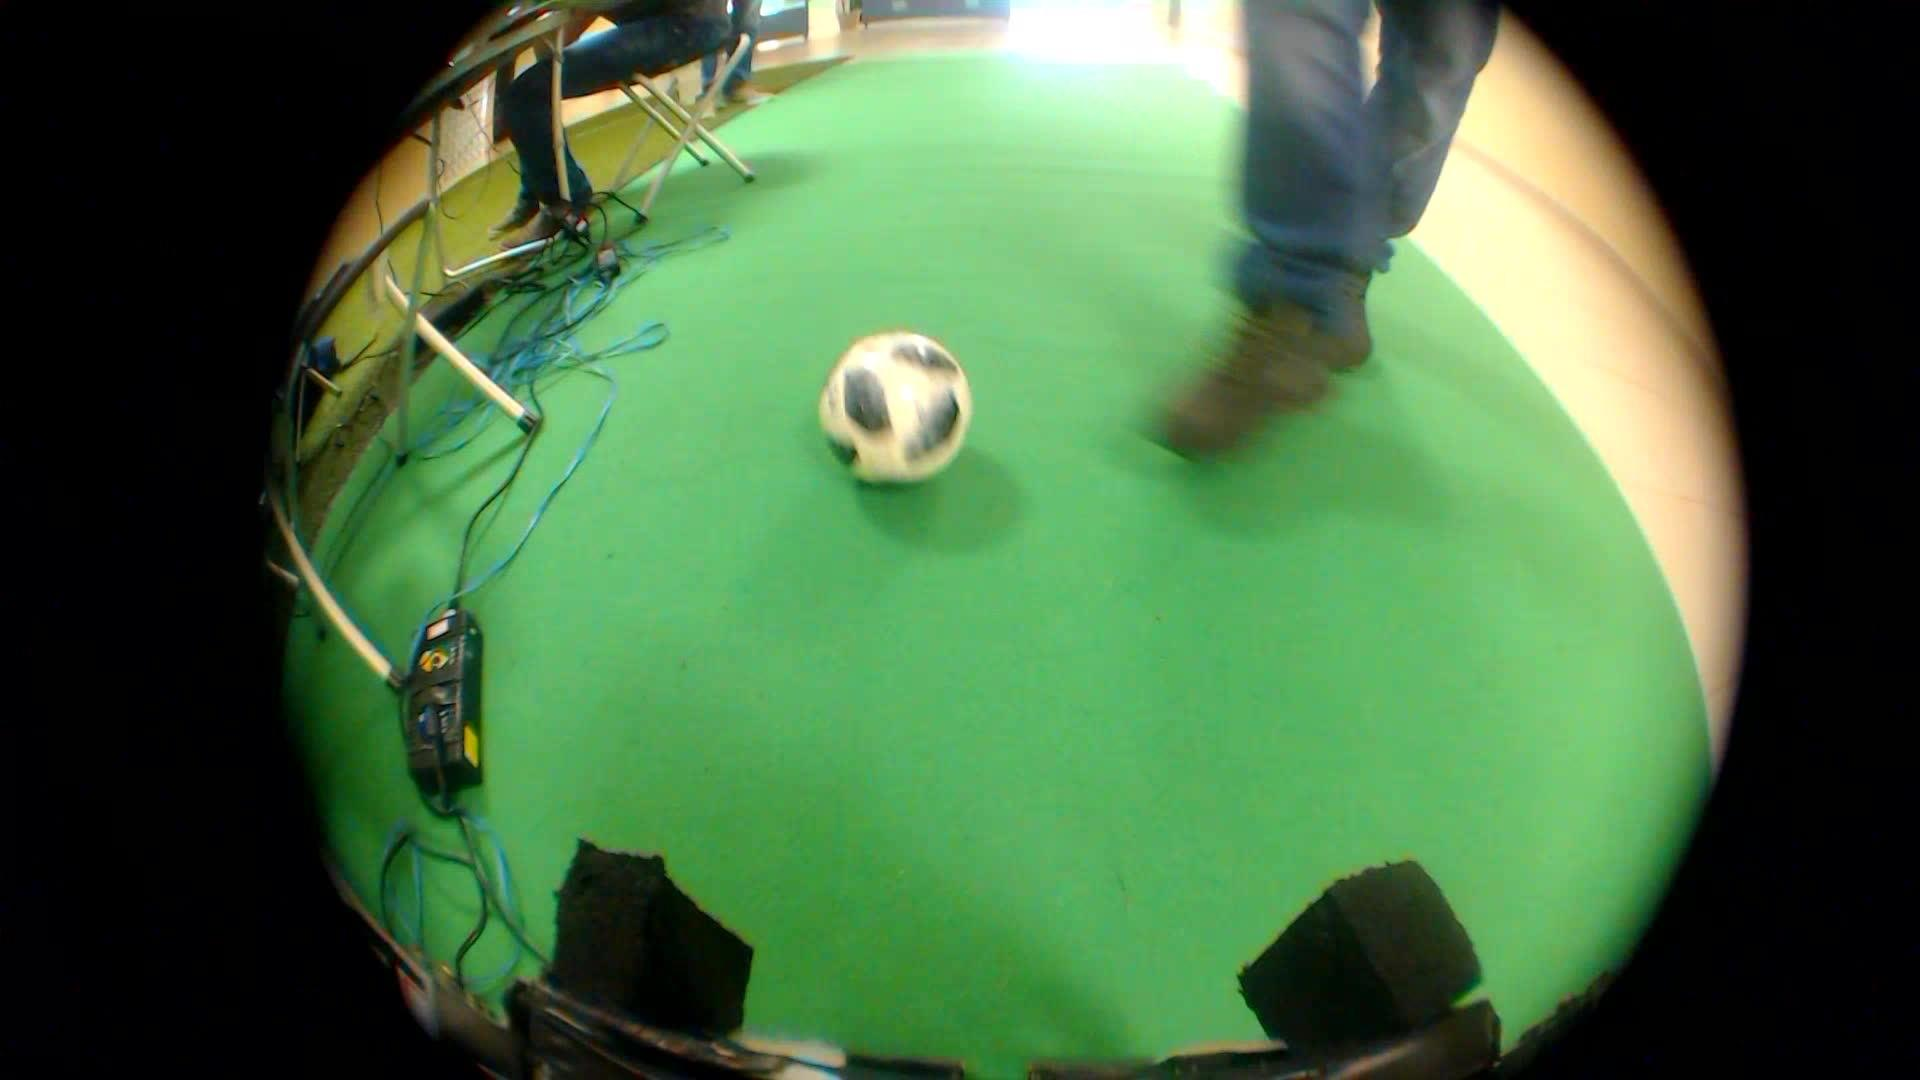ball: (804, 313, 1004, 502)
